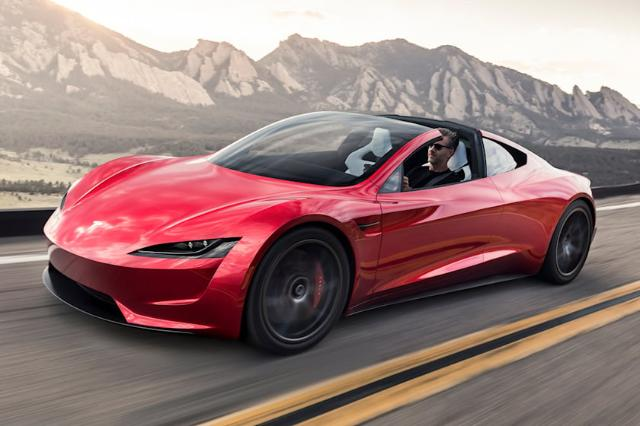tesla: (41, 111, 597, 357)
